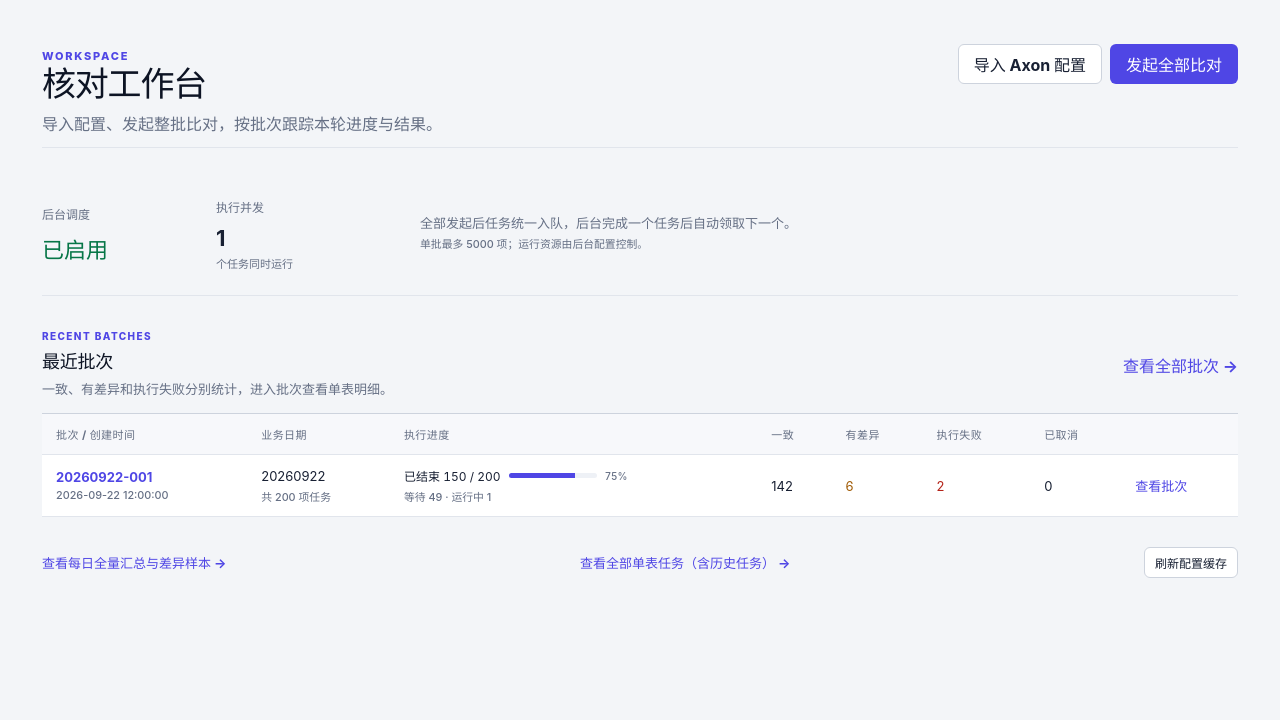
it: shows a retryable message when cache refresh has a network failure
Click the button "刷新配置缓存".
click(1191, 563)  # box left=1144, top=547, right=1238, bottom=578
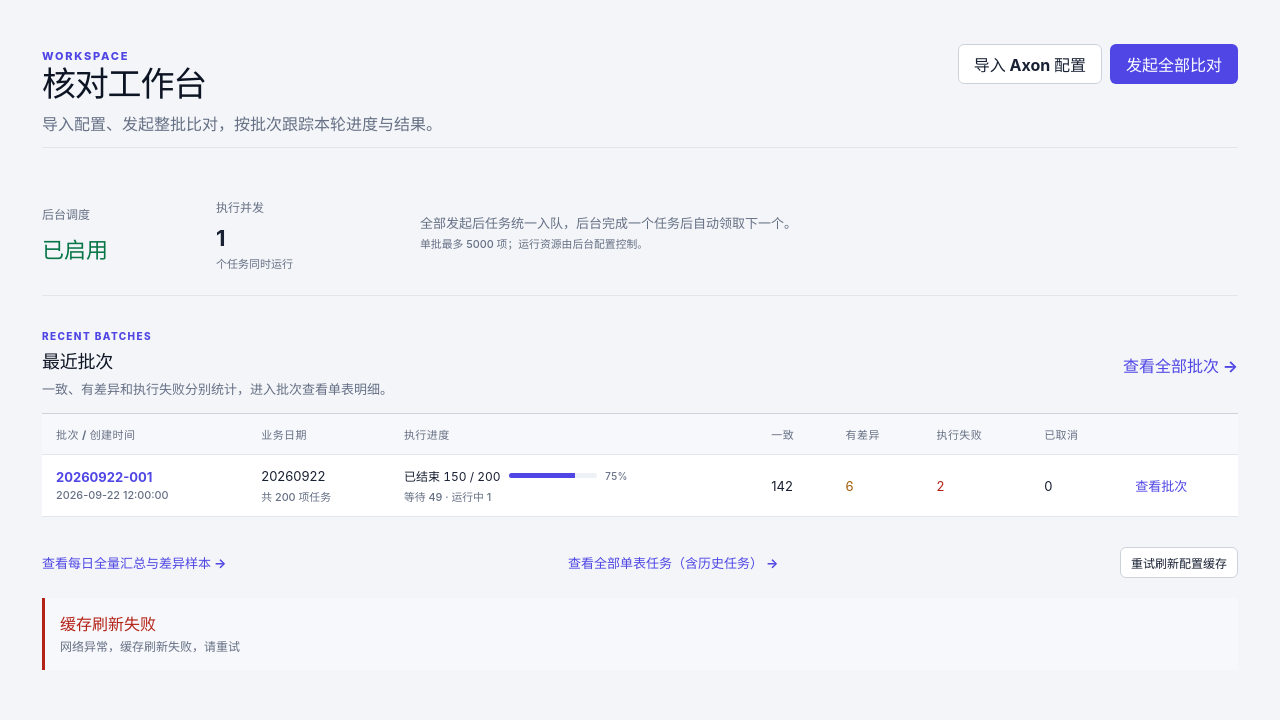
Check: the button "重试刷新配置缓存" is enabled, box left=1120, top=547, right=1238, bottom=578
Check: the text "网络异常，缓存刷新失败，请重试" is shown, box left=60, top=638, right=240, bottom=657
